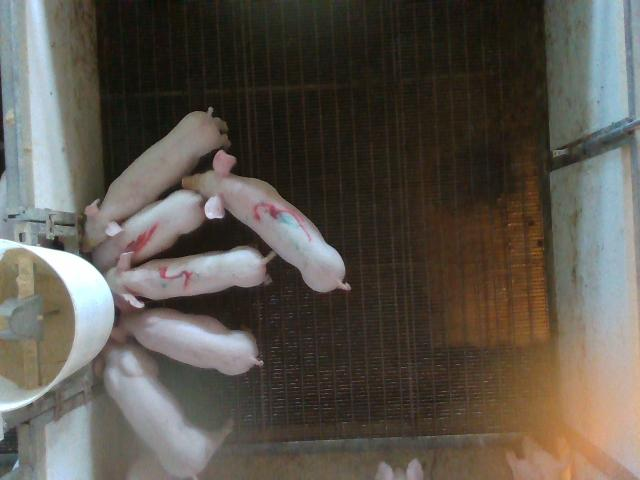pig-1: (92, 190, 206, 273)
pig-3: (182, 150, 351, 292)
pig-5: (105, 246, 275, 308)
